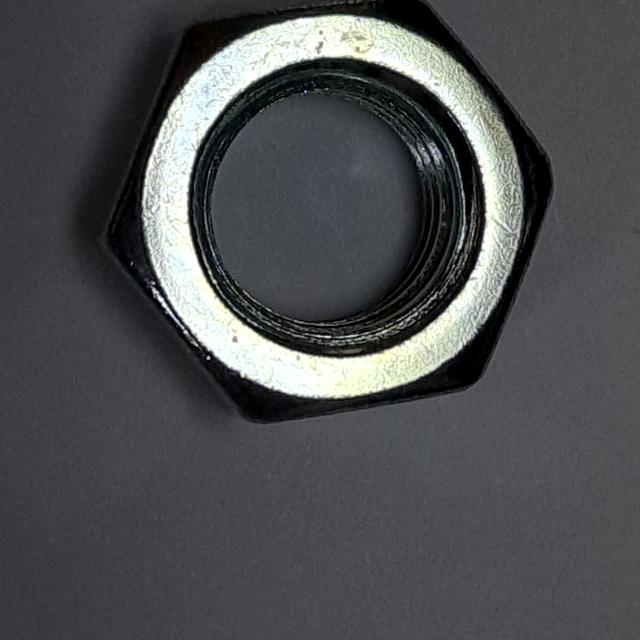Excellent: (82, 1, 567, 439)
